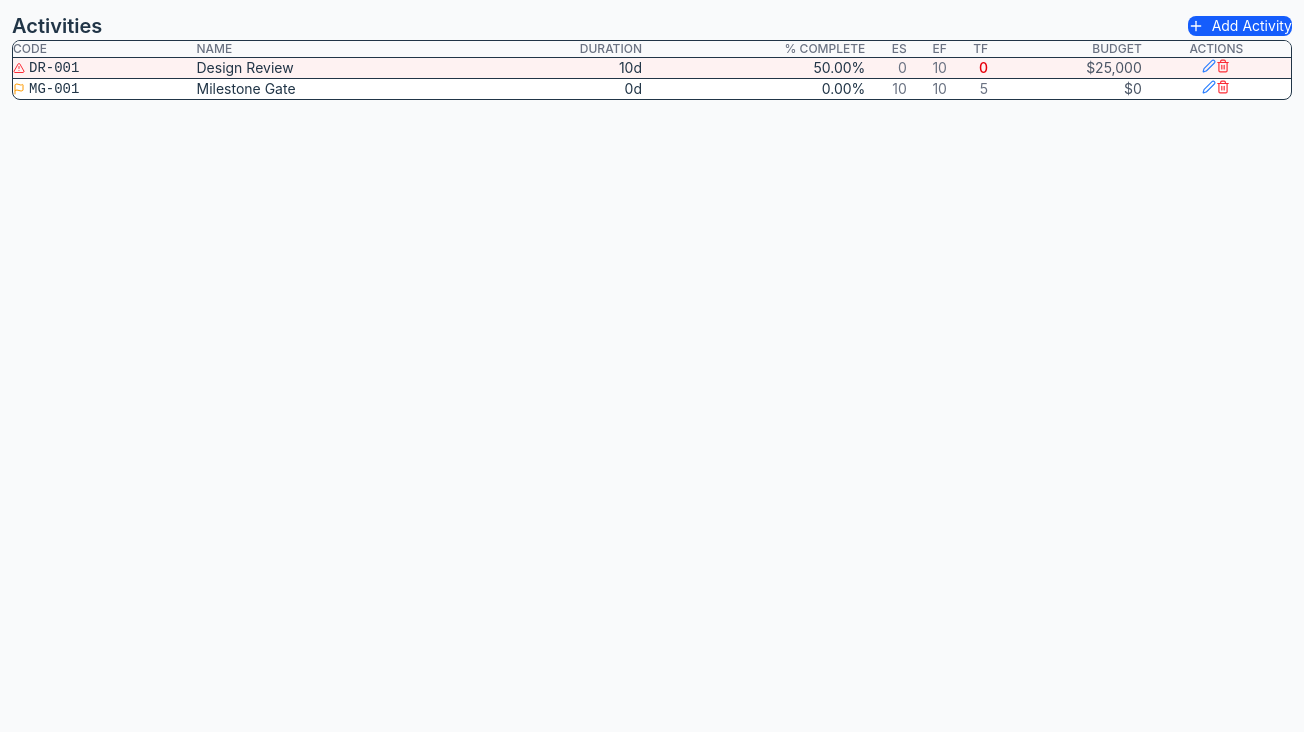
ActivityList › shows error toast when deletion fails
The image size is (1304, 732).
Click the button named "Delete activity Milestone Gate". click: (1223, 87)
box: [1216, 80, 1230, 94]
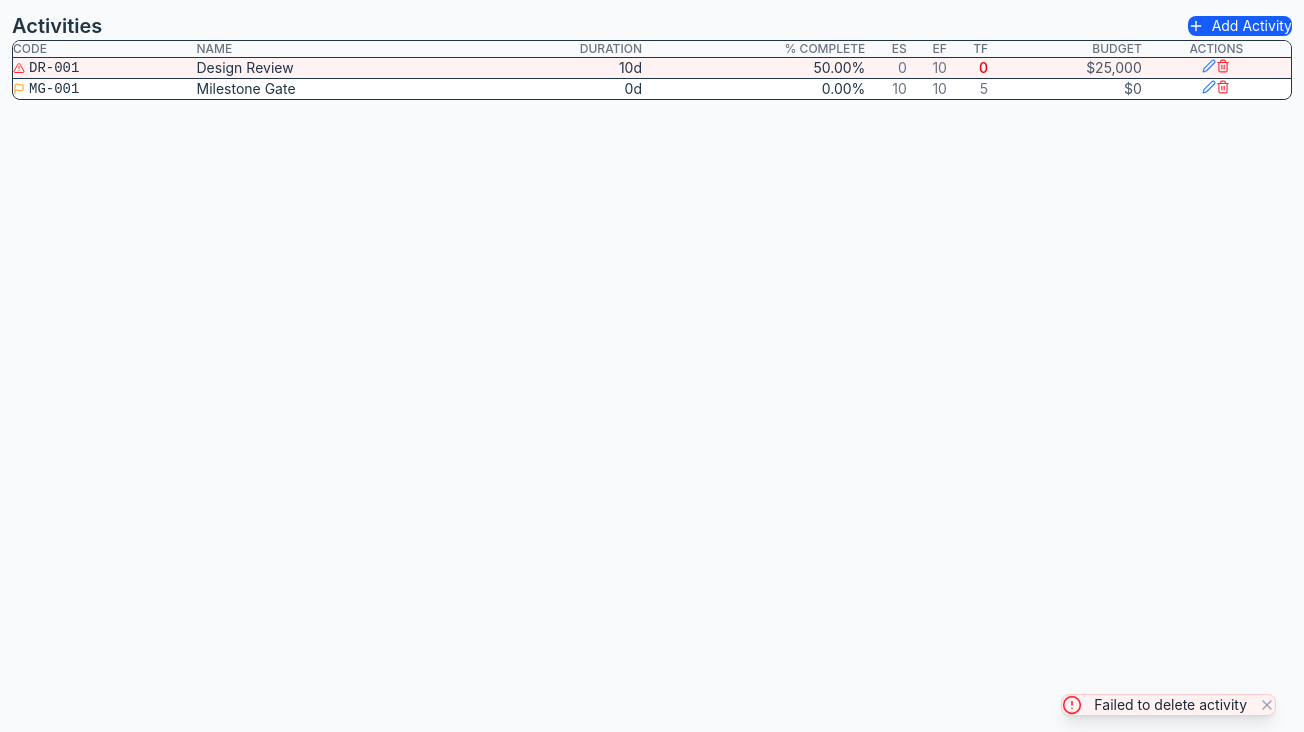
Check: the text "Failed to delete activity" is shown, box [1094, 695, 1247, 715]
